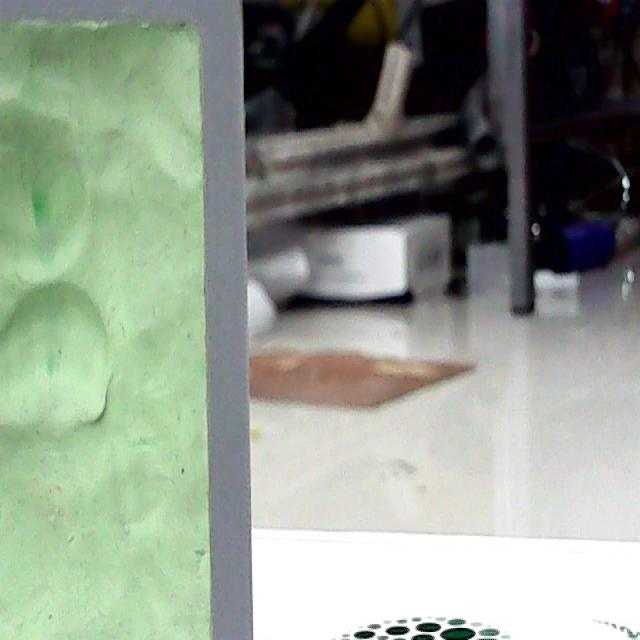block: (0, 1, 262, 640)
